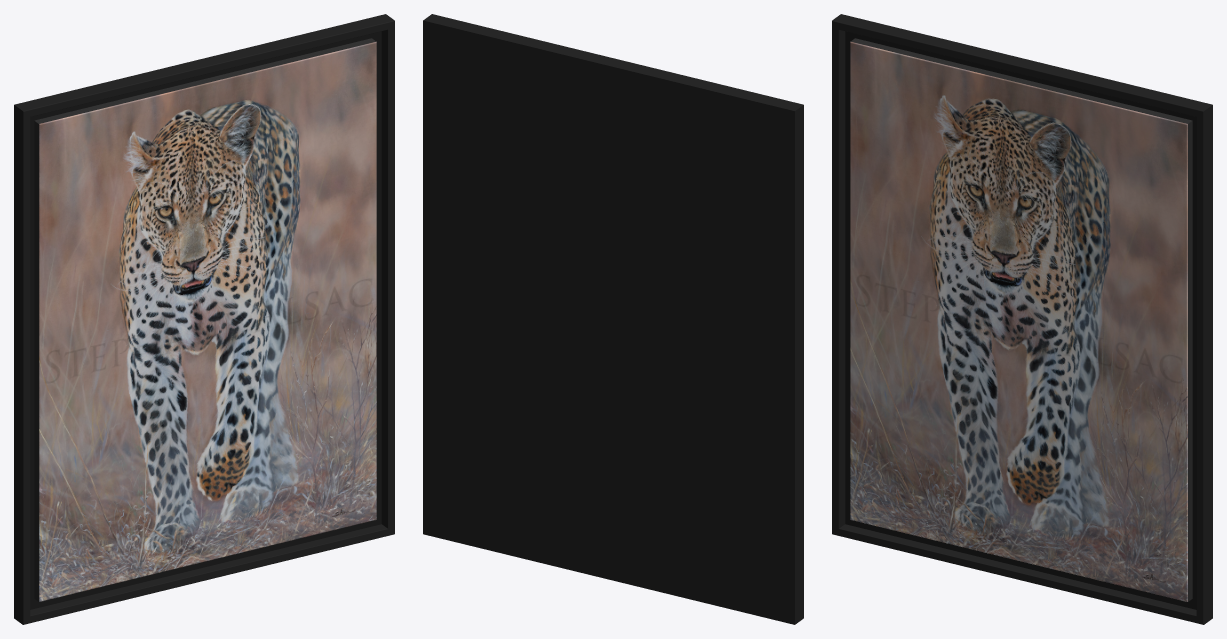
Rendered from tableau-leopard-le-chasseur-grand-c2ffa502.glb.
3 renders of one model, left to right at view 1: azimuth 30°, elevation 25°; view 2: azimuth 150°, elevation 25°; view 3: azimuth 330°, elevation 25°, orthographic.
Visible parts, largest first — view 1: Painting; view 2: Painting; view 3: Painting.
Part boxes in pixels (<box>): Painting: <box>14,14,394,624</box>; Painting: <box>423,14,803,624</box>; Painting: <box>832,14,1212,624</box>.
Bounding box in the file's own units: 0.936 × 1.24 × 0.04.
4 materials, 2 textured.
